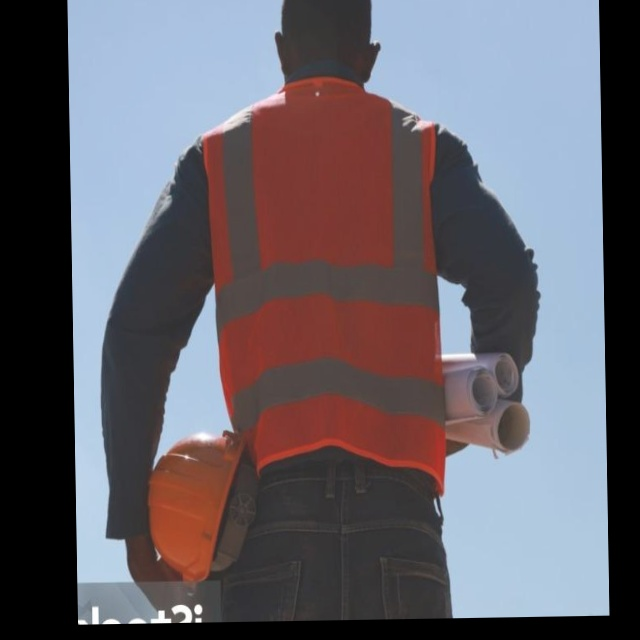Con_Chaleco: (206, 86, 440, 471)
Sin_Casco_Mascarrilla: (272, 0, 380, 92)
